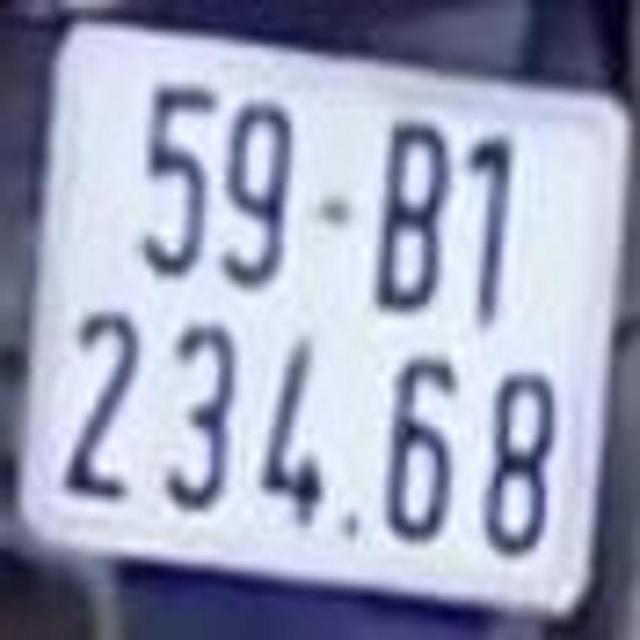1: (464, 106, 516, 335)
2: (67, 296, 136, 502)
3: (165, 304, 238, 507)
4: (258, 317, 322, 536)
5: (136, 75, 215, 279)
6: (381, 345, 463, 546)
8: (481, 358, 560, 558)
9: (217, 79, 290, 291)
B: (372, 98, 449, 312)
